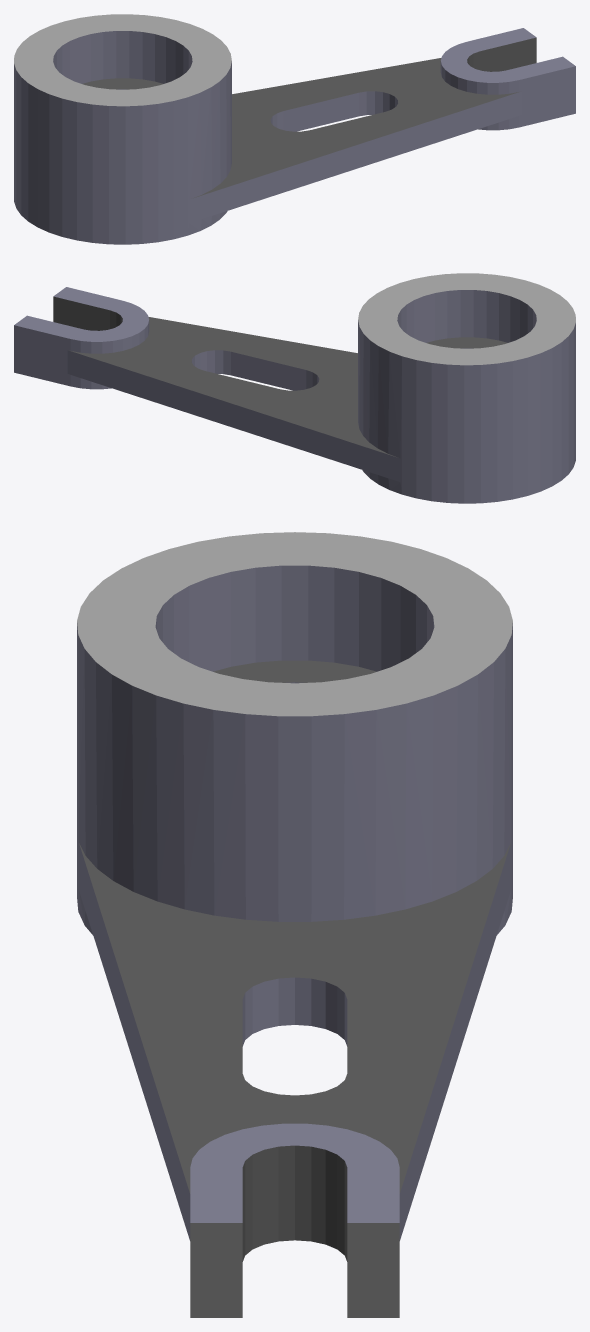
The model's file is Q1b(old).gltf.
3 renders of one model, top to bottom at view 1: azimuth 30°, elevation 25°; view 2: azimuth 150°, elevation 25°; view 3: azimuth 270°, elevation 25°, orthographic. The views are drawn at different scales.
Parts seen in each view (by area): view 1: Q1b; view 2: Q1b; view 3: Q1b.
Boxes of the visible parts, bbox=[...] form: Q1b: bbox=[14, 14, 575, 244]; Q1b: bbox=[14, 273, 575, 503]; Q1b: bbox=[77, 532, 512, 1317].
Bounding box in the file's own units: 13.8 × 3.5 × 5.
